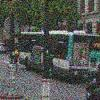buses: (17, 29, 100, 78)
